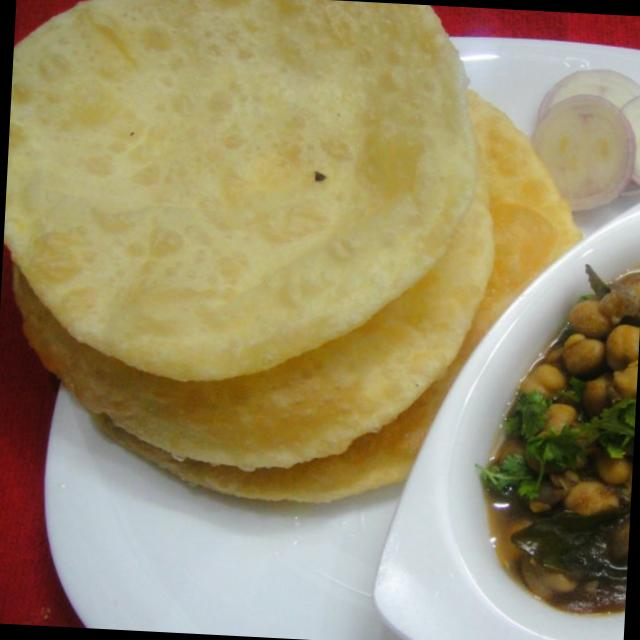Bhatura: (0, 0, 598, 518)
Chole: (501, 255, 640, 553)
